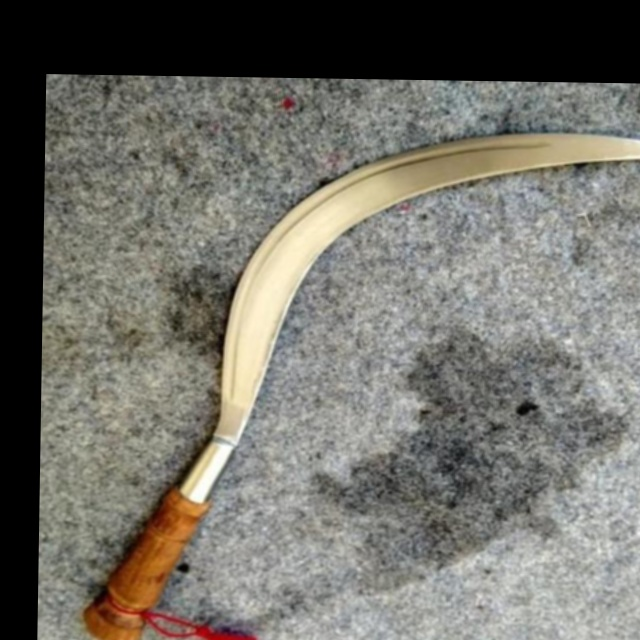Sharp-Object: (77, 120, 640, 640)
